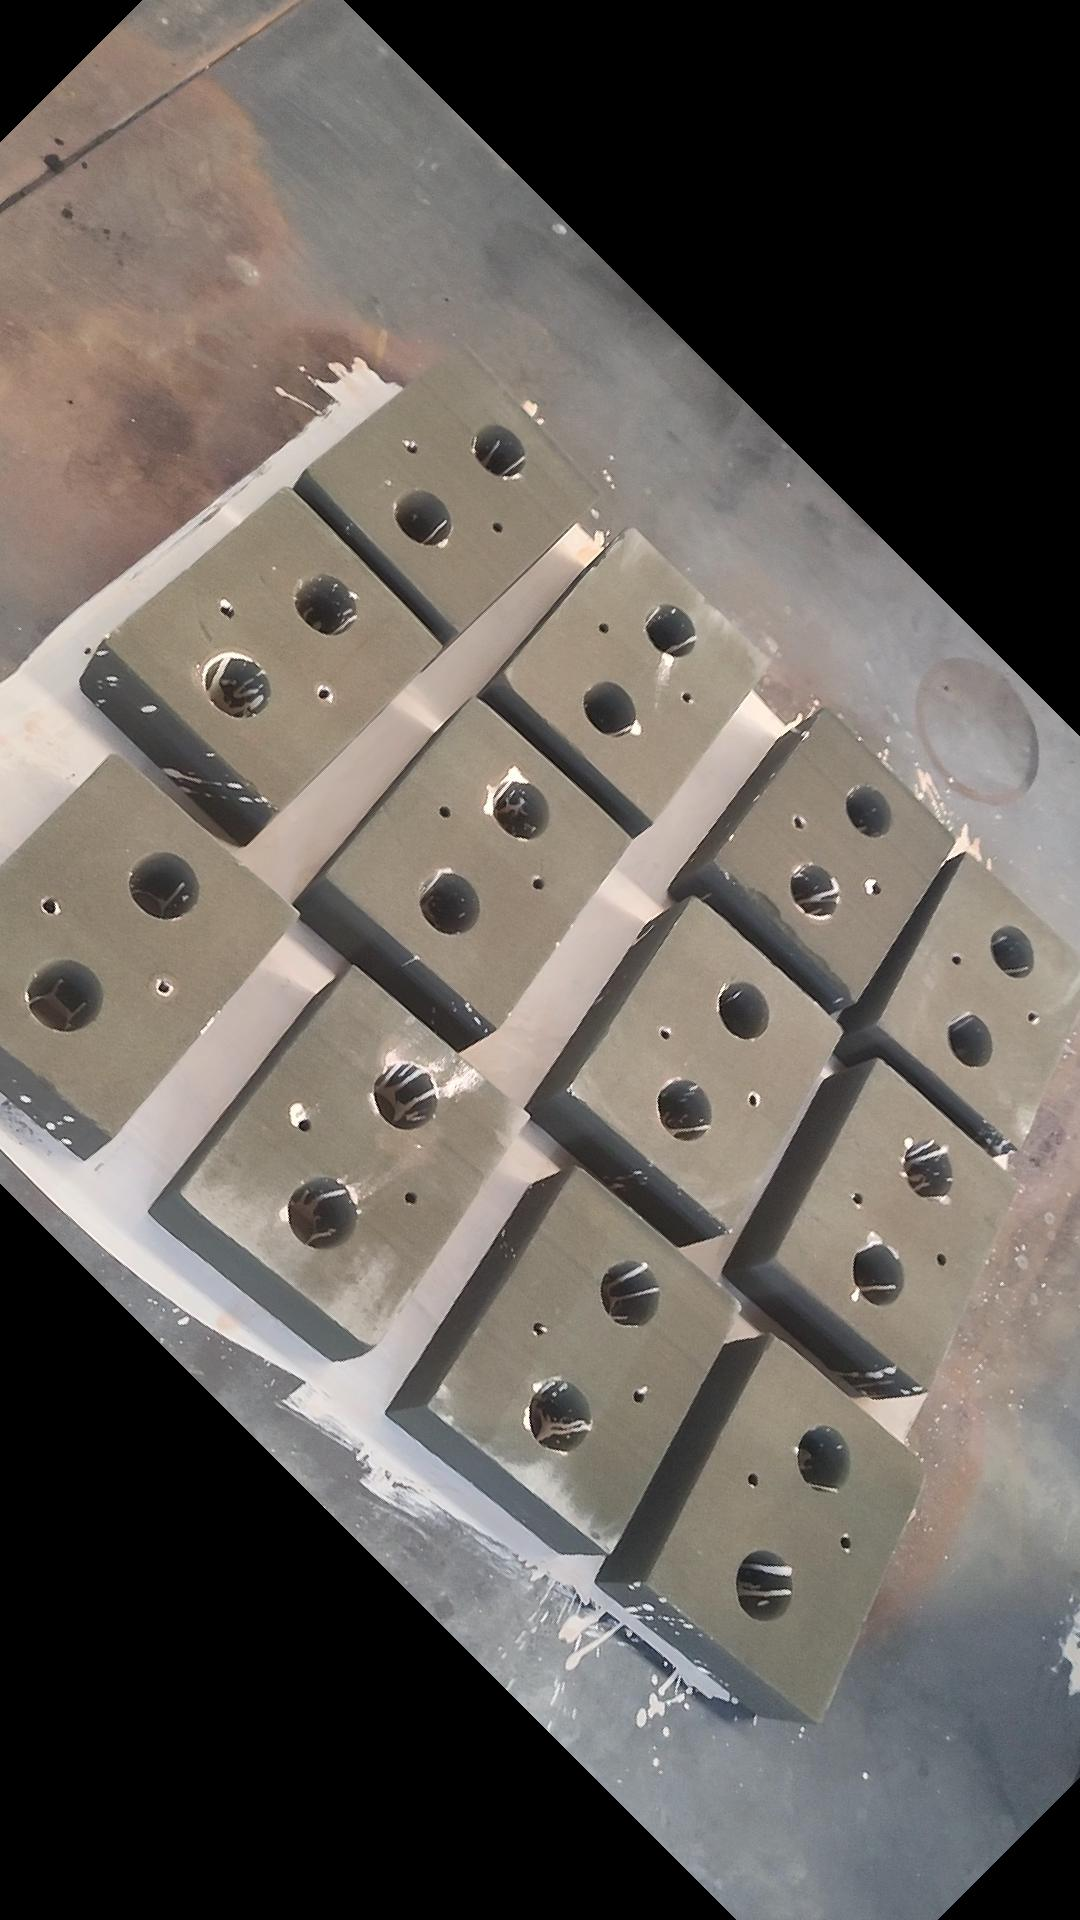pouring hole: (24, 957, 102, 1033), (287, 1176, 357, 1249), (127, 852, 199, 920), (202, 651, 272, 717), (529, 1379, 591, 1451), (375, 1062, 439, 1129), (600, 1259, 659, 1327), (736, 1549, 793, 1619), (295, 571, 356, 636), (419, 872, 480, 934), (657, 1077, 712, 1141), (798, 1425, 851, 1491), (492, 781, 550, 840), (394, 488, 452, 545), (853, 1244, 905, 1305), (583, 679, 638, 736), (469, 425, 527, 477), (719, 981, 770, 1039), (905, 1139, 953, 1199), (790, 862, 840, 919), (646, 603, 696, 655), (948, 1011, 993, 1067), (990, 924, 1035, 978), (845, 785, 891, 836)
